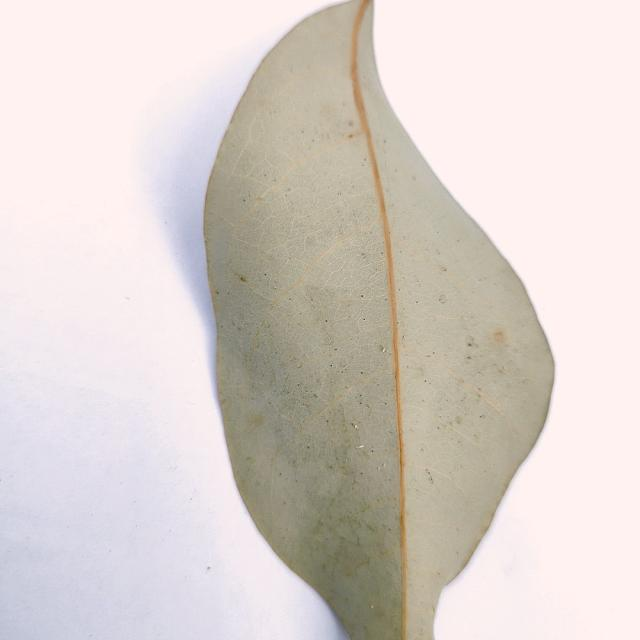Dry_Leaf-Lychee: (201, 0, 557, 639)
